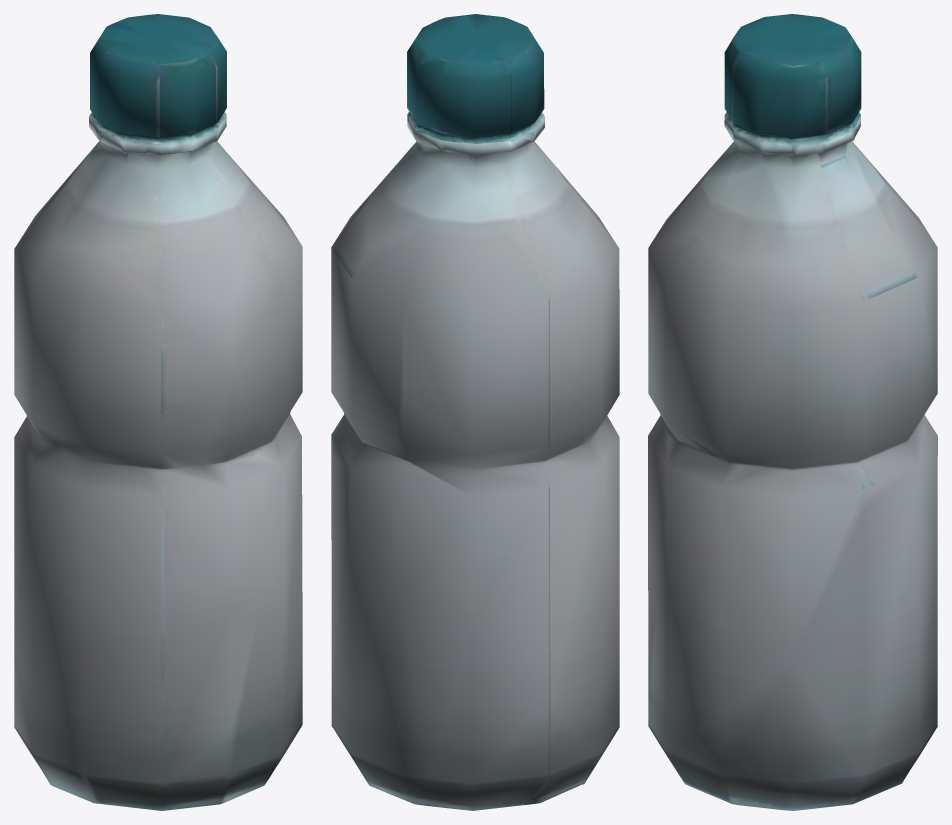
The model's file is water_bottle.glb.
3 views of the same model, side by side, from view 1: azimuth 30°, elevation 25°; view 2: azimuth 150°, elevation 25°; view 3: azimuth 270°, elevation 25° (orthographic).
Visible parts, largest first — view 1: Mesh1.0; view 2: Mesh1.0; view 3: Mesh1.0.
Part boxes in pixels (box(x1,y1,x2,y2)): Mesh1.0: box(14, 14, 302, 810); Mesh1.0: box(331, 14, 619, 810); Mesh1.0: box(648, 14, 937, 810).
Size of the model in its own units: 0.6968 by 1.91 by 0.697.
1 material, 1 textured.
